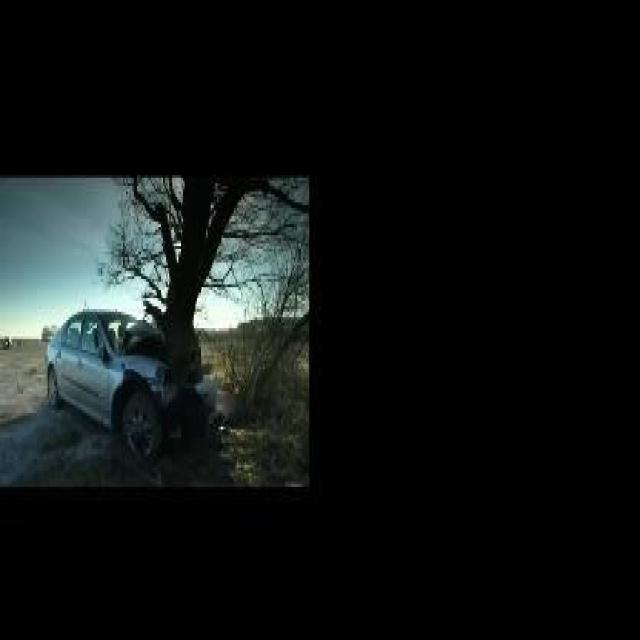accident: (40, 202, 215, 454)
